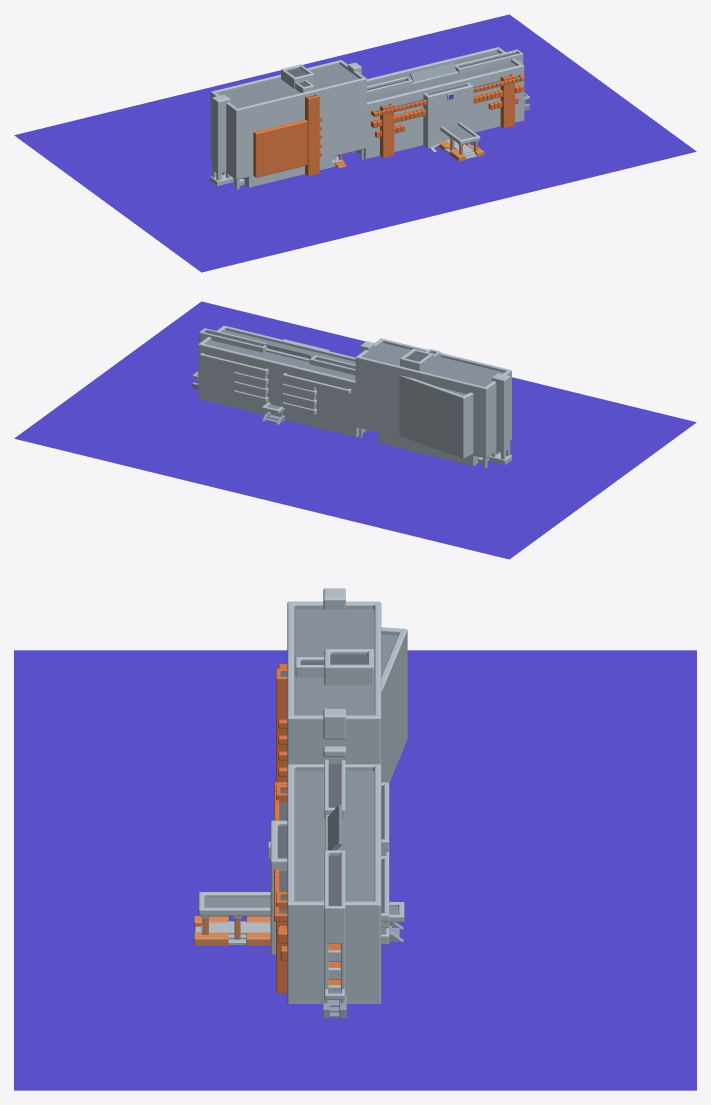
The model's file is aiu-predemo.glb.
3 renders of one model, top to bottom at view 1: azimuth 30°, elevation 25°; view 2: azimuth 150°, elevation 25°; view 3: azimuth 270°, elevation 25°, orthographic. The views are drawn at different scales.
Visible parts, largest first — view 1: floor, Cube.752, Cube.1116, Cube.058, Cube.042, Cube.057, Cube.106, Cube.105, Cube.043, Cube.059, Cube.114, Cube.052 (+3 smaller); view 2: floor, Cube.752, Cube.1116, Cube.339, Cube.057, Cube.106, Cube.105, Cube.059, Cube.104, Cube.244, Cube.1099, Cube.300; view 3: floor, Cube.1116, Cube.106, Cube.752, Cube.057, Cube.339, Cube.059, Cube.104, Cube.308, Cube.043, Cube.042, Cube.052.
Boxes of the visible parts, bbox=[...] form: floor: bbox=[14, 14, 696, 272]; Cube.752: bbox=[210, 60, 366, 187]; Cube.1116: bbox=[355, 47, 524, 158]; Cube.058: bbox=[253, 119, 307, 177]; Cube.042: bbox=[423, 82, 473, 148]; Cube.057: bbox=[218, 64, 359, 108]; Cube.106: bbox=[367, 51, 516, 102]; Cube.105: bbox=[212, 94, 230, 180]; Cube.043: bbox=[305, 94, 319, 176]; Cube.059: bbox=[454, 49, 523, 74]; Cube.114: bbox=[380, 103, 394, 157]; Cube.052: bbox=[500, 73, 514, 128]; floor: bbox=[14, 301, 696, 559]; Cube.752: bbox=[355, 338, 511, 465]; Cube.1116: bbox=[198, 325, 366, 437]; Cube.339: bbox=[399, 375, 473, 458]; Cube.057: bbox=[363, 343, 504, 386]; Cube.106: bbox=[206, 330, 355, 380]; Cube.105: bbox=[492, 373, 510, 459]; Cube.059: bbox=[199, 328, 267, 352]; Cube.104: bbox=[400, 348, 433, 371]; Cube.244: bbox=[309, 355, 355, 375]; Cube.1099: bbox=[199, 353, 268, 375]; Cube.300: bbox=[282, 373, 351, 394]; floor: bbox=[14, 650, 696, 1090]; Cube.1116: bbox=[287, 764, 381, 1003]; Cube.106: bbox=[294, 771, 374, 901]; Cube.752: bbox=[287, 601, 381, 764]; Cube.057: bbox=[294, 609, 374, 715]; Cube.339: bbox=[381, 627, 407, 782]; Cube.059: bbox=[324, 850, 345, 1003]; Cube.104: bbox=[324, 649, 373, 684]; Cube.308: bbox=[198, 892, 270, 916]; Cube.043: bbox=[276, 668, 287, 781]; Cube.042: bbox=[270, 820, 287, 954]; Cube.052: bbox=[276, 892, 287, 992].
Bounding box in the file's own units: 29.11 × 4.97 × 19.08.
